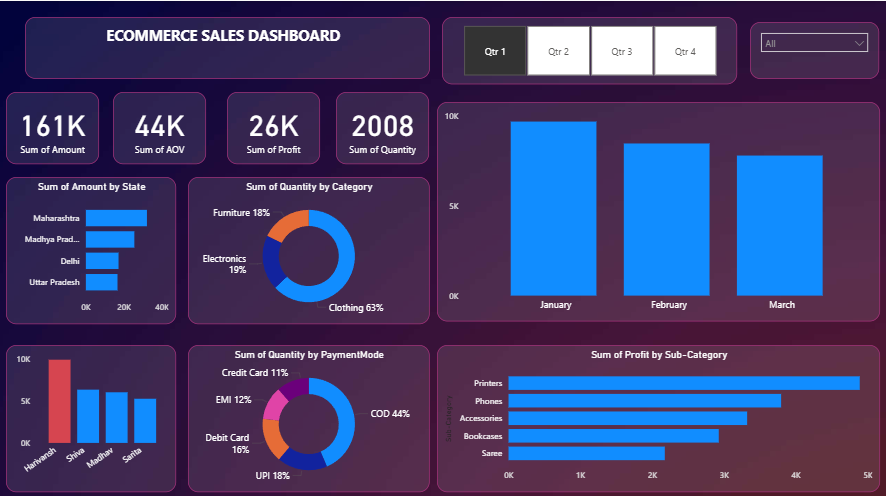

This screenshot's page, from the dashboard's own definition file:
{"tool":"powerbi","page":{"name":"Page 1","canvas":[1280,720],"ordinal":0},"visuals":[{"type":"textbox","box":[38.6,23.5,582.9,89],"z":0},{"type":"columnChart","title":"Profit by Month","fields":{"Y":["Sum(Details.Profit)"],"Category":["Orders.Order Date.Variation.Date Hierarchy.Month"]},"box":[631.6,146.1,638.3,315.8],"z":1000},{"type":"barChart","fields":{"Category":["Details.Sub-Category"],"Y":["Sum(Details.Profit)"]},"box":[631.6,495.5,638.3,211.7],"z":2000},{"type":"donutChart","fields":{"Y":["Sum(Details.Quantity)"],"Category":["Details.PaymentMode"]},"box":[273.8,495.5,347.7,211.7],"z":3000},{"type":"donutChart","fields":{"Category":["Details.Category"],"Y":["Sum(Details.Quantity)"]},"box":[273.8,253.6,347.7,211.7],"z":4000},{"type":"card","fields":{"Values":["Sum(Details.Quantity)"]},"box":[487.1,131,134.4,104.1],"z":5000},{"type":"card","fields":{"Values":["Sum(Details.Profit)"]},"box":[329.2,131,134.4,104.1],"z":6000},{"type":"card","fields":{"Values":["Sum(Details.AOV)"]},"box":[166.3,131,134.4,104.1],"z":7000},{"type":"card","fields":{"Values":["Sum(Details.Amount)"]},"box":[11.8,131,134.4,104.1],"z":8000},{"type":"barChart","fields":{"Category":["Orders.State"],"Y":["Sum(Details.Amount)"]},"box":[11.8,253.6,245.2,211.7],"z":9000},{"type":"columnChart","fields":{"Category":["Orders.CustomerName"],"Y":["Sum(Details.Amount)"]},"box":[12,496,245,212],"z":10000},{"type":"slicer","fields":{"Values":["Orders.Order Date.Variation.Date Hierarchy.Quarter"]},"box":[640,23.5,425,97.4],"z":11000},{"type":"slicer","fields":{"Values":["Orders.State"]},"box":[1083.5,30.2,186.5,82.3],"z":12000}]}

Visuals, with their boxes in screenshot pixels (x1, y1, x2, y2), scaled from the page's 1280x720 canvas onto the 886x496 screenshot:
textbox: 27/16/430/78
"Profit by Month" columnChart: 437/101/879/318
barChart - Details.Sub-Category x Sum(Details.Profit): 437/341/879/487
donutChart - Sum(Details.Quantity) x Details.PaymentMode: 190/341/430/487
donutChart - Details.Category x Sum(Details.Quantity): 190/175/430/321
card - Sum(Details.Quantity): 337/90/430/162
card - Sum(Details.Profit): 228/90/321/162
card - Sum(Details.AOV): 115/90/208/162
card - Sum(Details.Amount): 8/90/101/162
barChart - Orders.State x Sum(Details.Amount): 8/175/178/321
columnChart - Orders.CustomerName x Sum(Details.Amount): 8/342/178/488
slicer - Orders.Order Date.Variation.Date Hierarchy.Quarter: 443/16/737/83
slicer - Orders.State: 750/21/879/78
